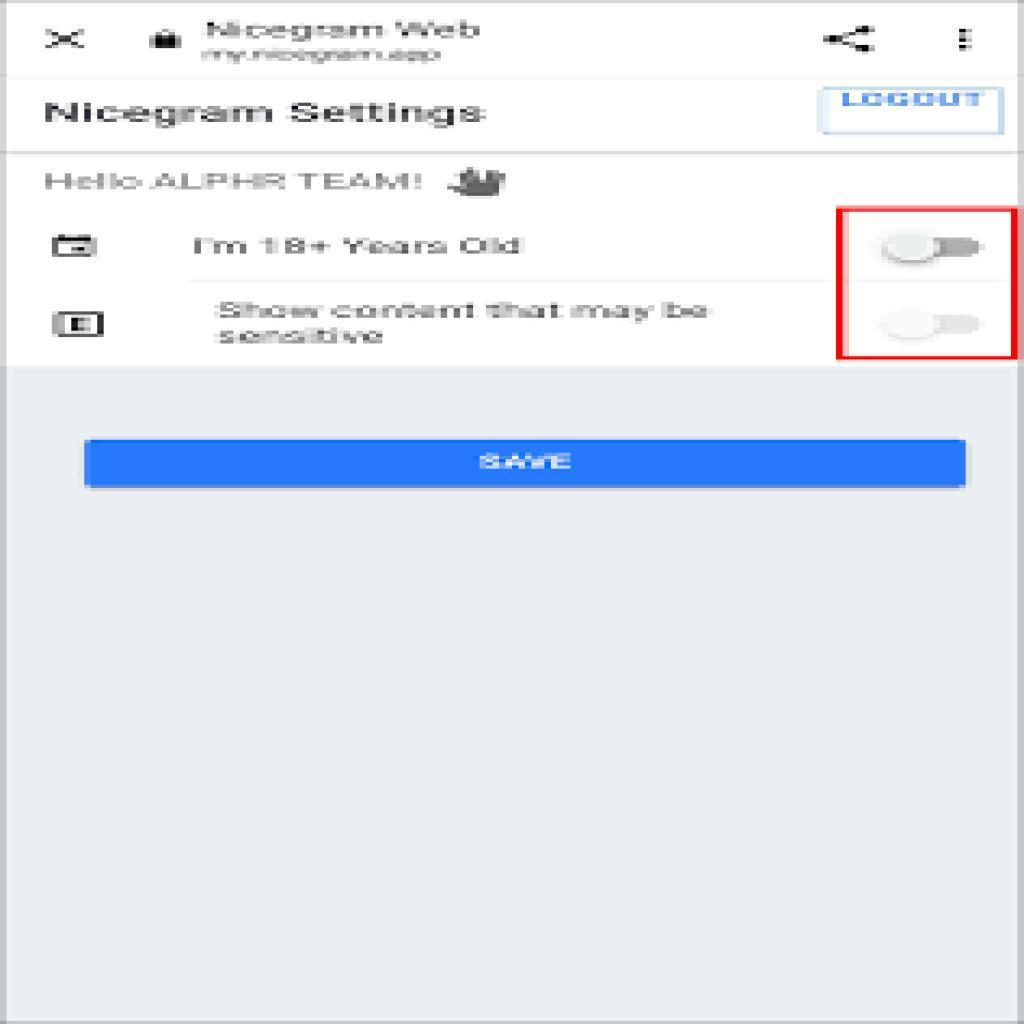button: (85, 436, 967, 489), (820, 87, 1006, 136)
icon: (447, 164, 510, 203), (55, 303, 109, 347), (821, 22, 880, 62), (41, 227, 98, 261), (46, 23, 86, 53), (147, 27, 186, 55), (954, 20, 976, 59)
switch: (881, 232, 985, 267), (884, 307, 985, 341)
